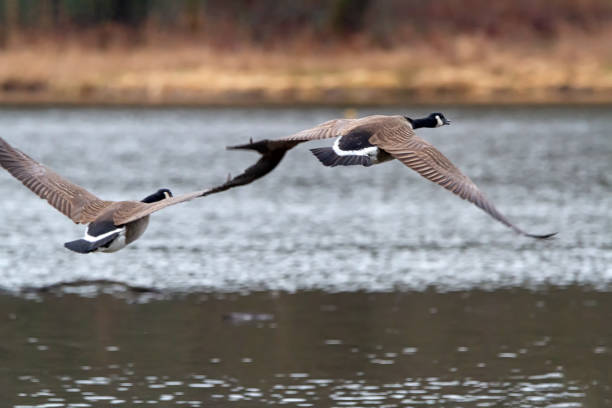goose: (199, 108, 559, 241), (1, 133, 288, 255)
